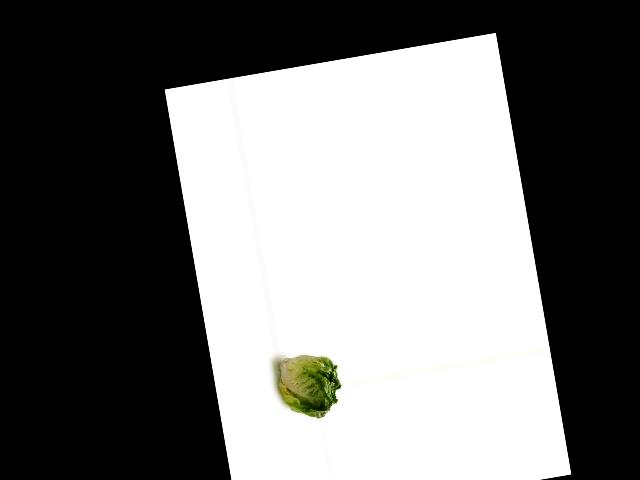lettuce: (274, 344, 348, 427)
